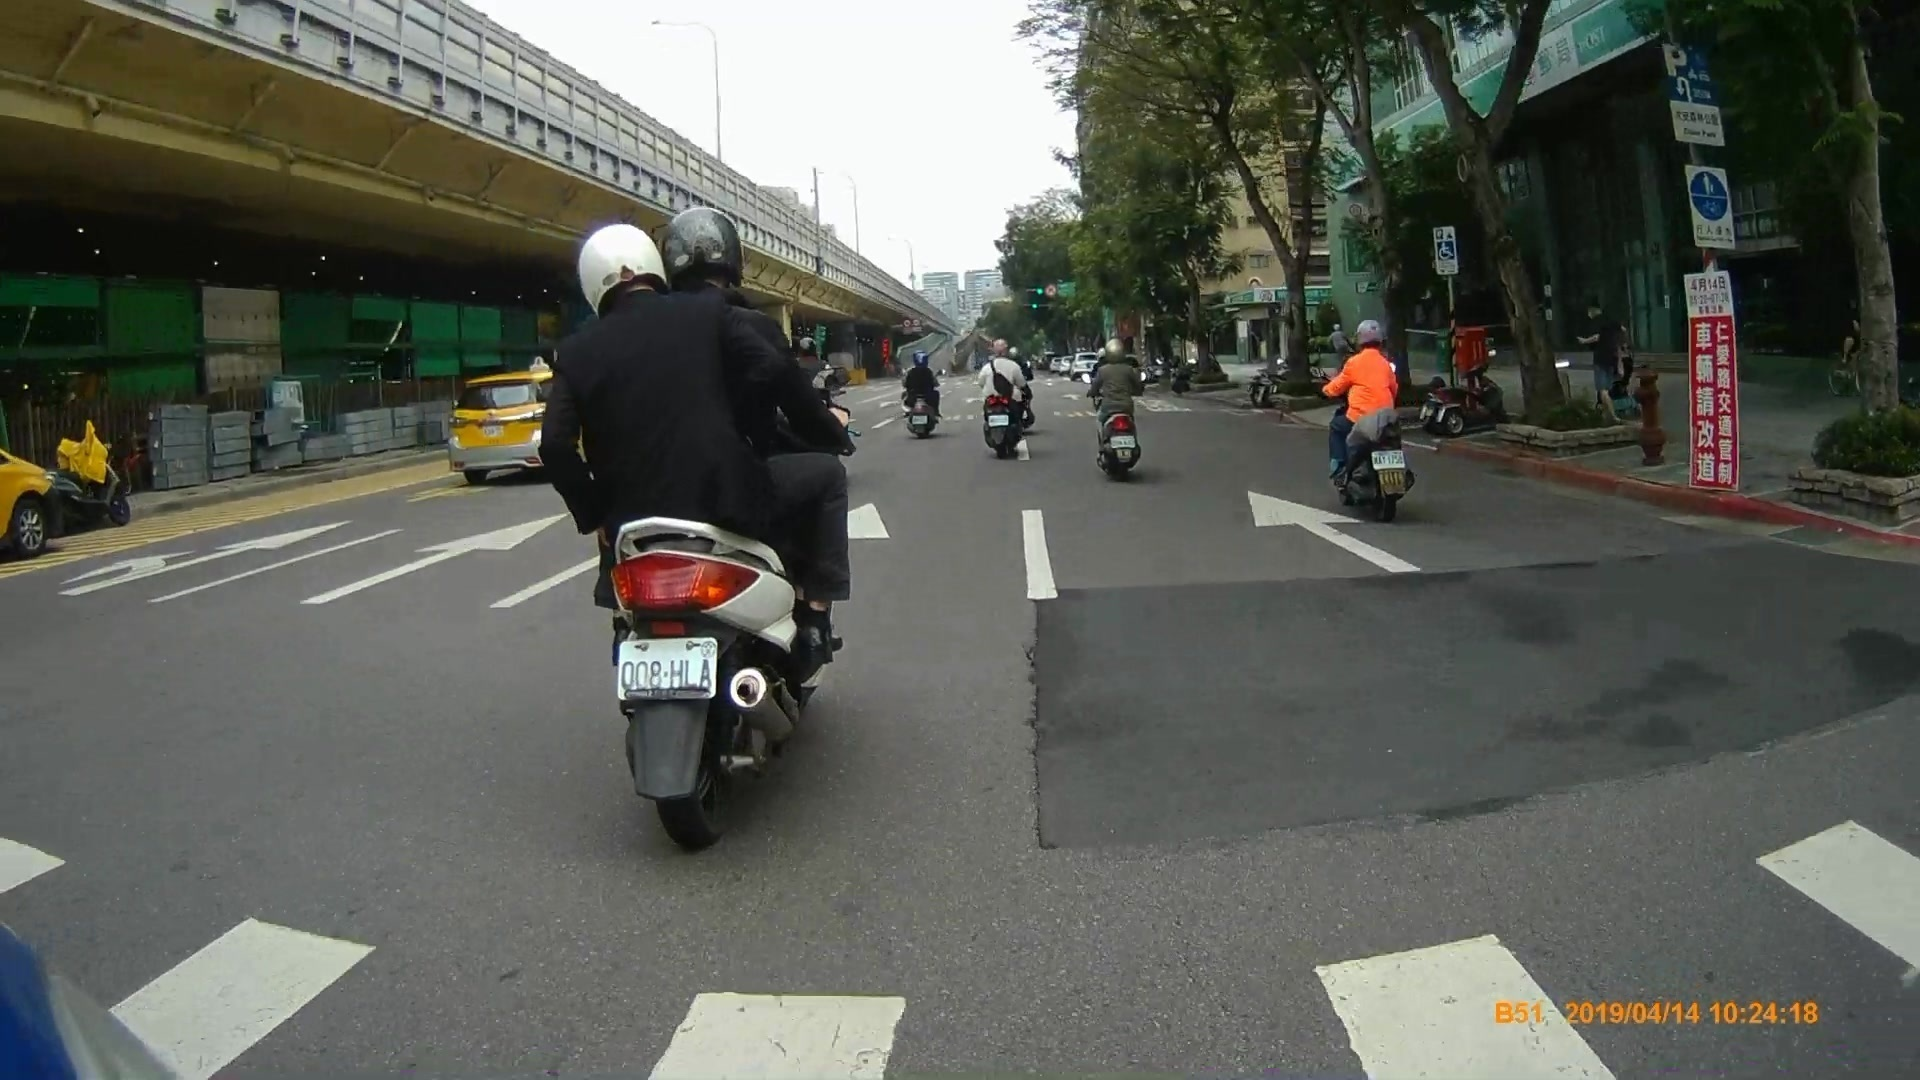License_plate: (613, 637, 716, 699), (1368, 446, 1407, 470), (1106, 433, 1138, 453), (987, 414, 1012, 428)
